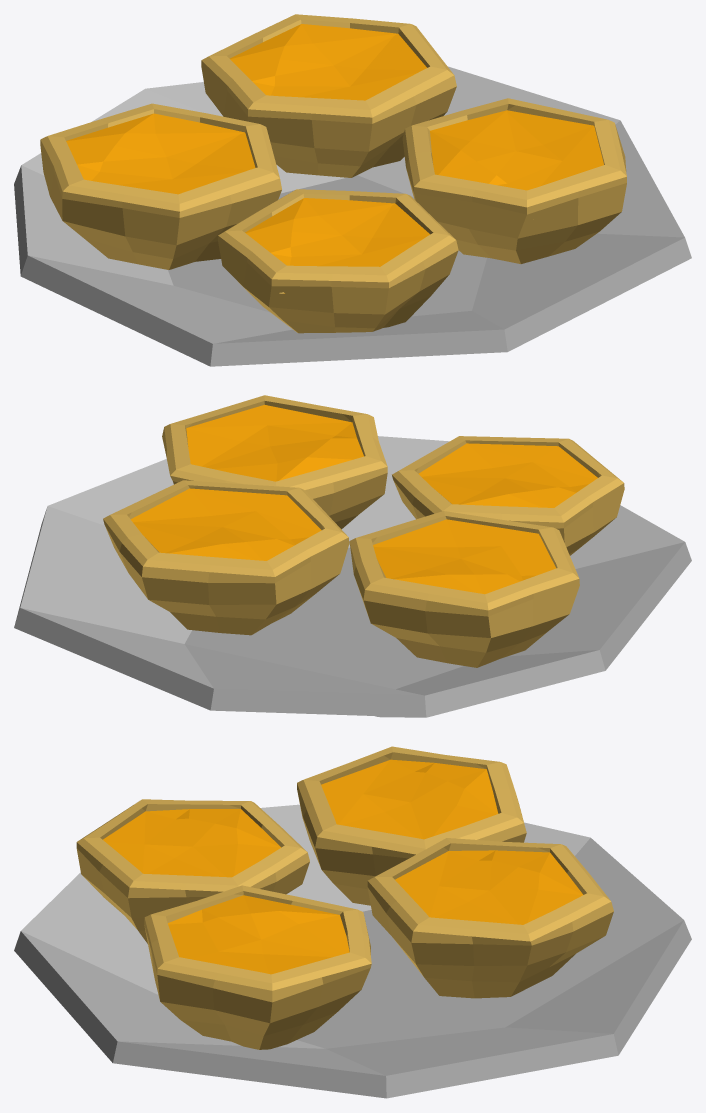
Rendered from Egg_Tart.fbx.
3 views of the same model, one above another, from view 1: azimuth 30°, elevation 25°; view 2: azimuth 150°, elevation 25°; view 3: azimuth 270°, elevation 25° (orthographic). The views are drawn at different scales.
Visible parts, largest first — view 1: Plane.004; view 2: Plane.004; view 3: Plane.004.
Part boxes in pixels (x1,y1,x2,y2): Plane.004: [14, 14, 691, 366]; Plane.004: [14, 395, 691, 717]; Plane.004: [14, 746, 691, 1098].
Size of the model in its own units: 208 by 50.65 by 208.
